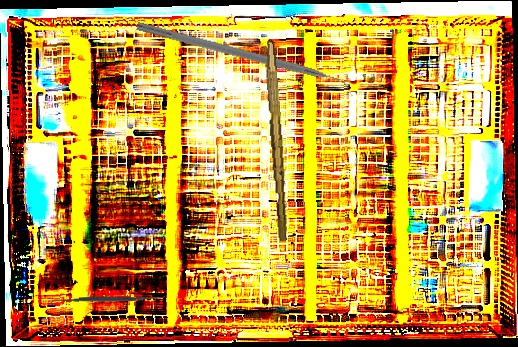Chopper: (133, 21, 357, 101)
Scalpel Handle: (260, 40, 292, 242)
Spatula Surgical: (49, 291, 166, 308)
